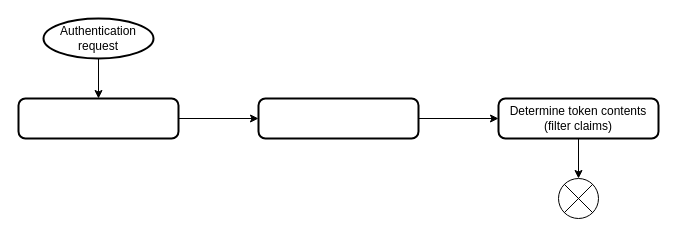
Some shapes in this 676 by 236 pixel diagram are drawn without their labels. Here are the shapes that lost their labels. From the top down, the box of each, then its label:
(17, 97, 179, 139): Authenticate user (forward to another IDP)
(257, 97, 419, 139): Establish identity (collect claims)
